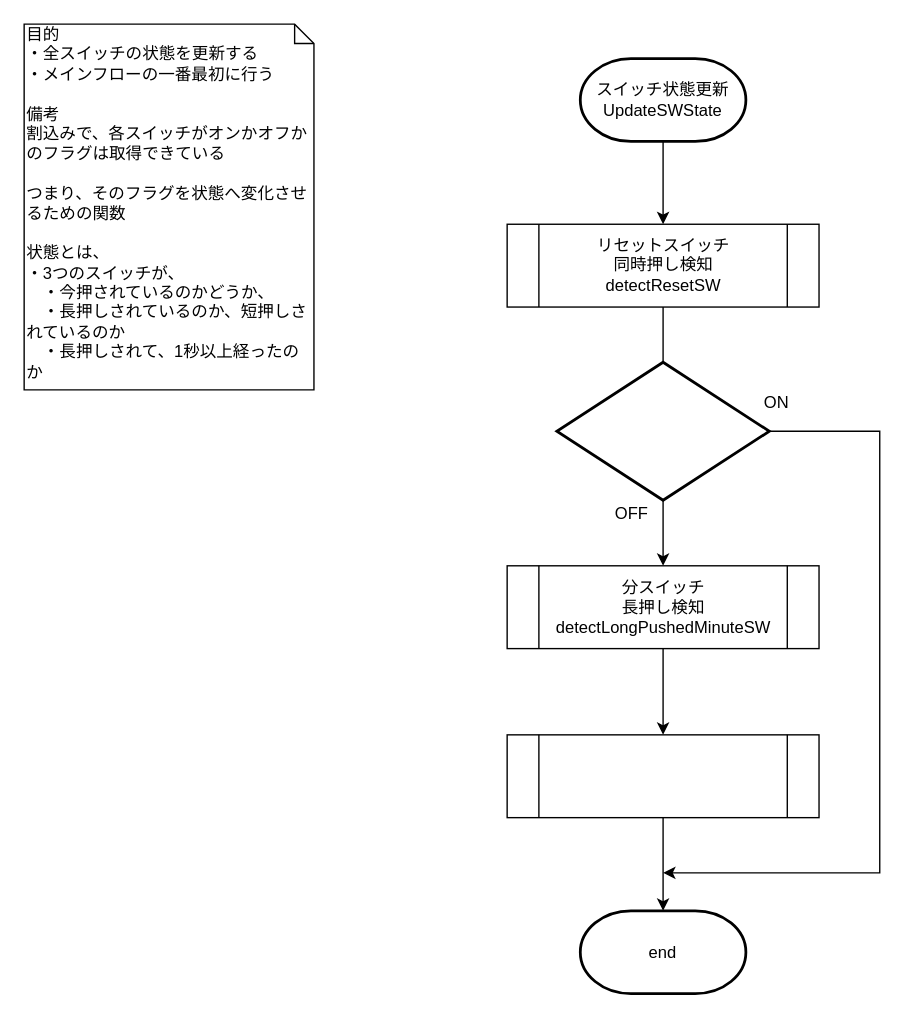
Image size: 915x1018. Some labels were removed from this diagram. The shapes that lost their labels are listed below. From the top down, each one's centre as x and y in pixels, then its label:
At point 662,430: "リセットスイッチ の状態".
At point 662,775: "秒スイッチ 長押し検知".
